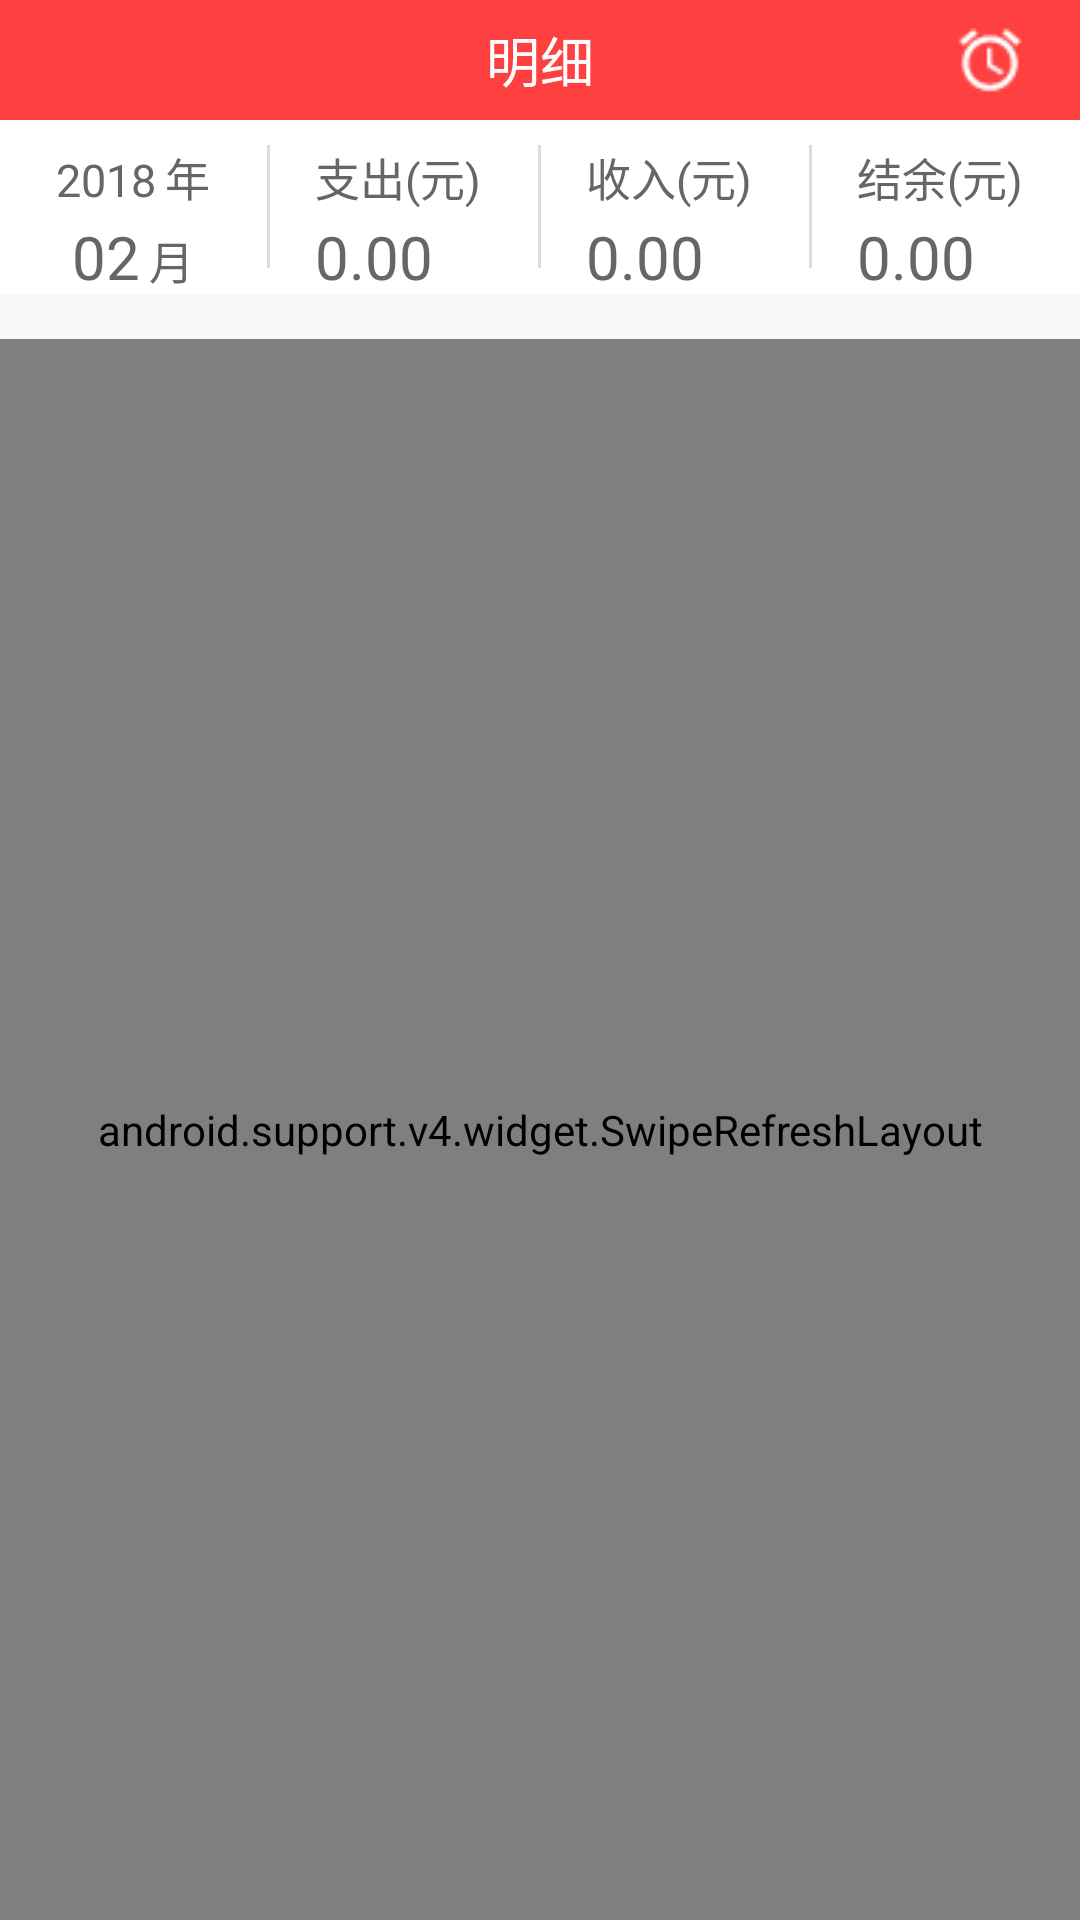

Icon click points for this 1080 x 1920 phone screenshot, format [x,y]:
naozhong: [990,60]
